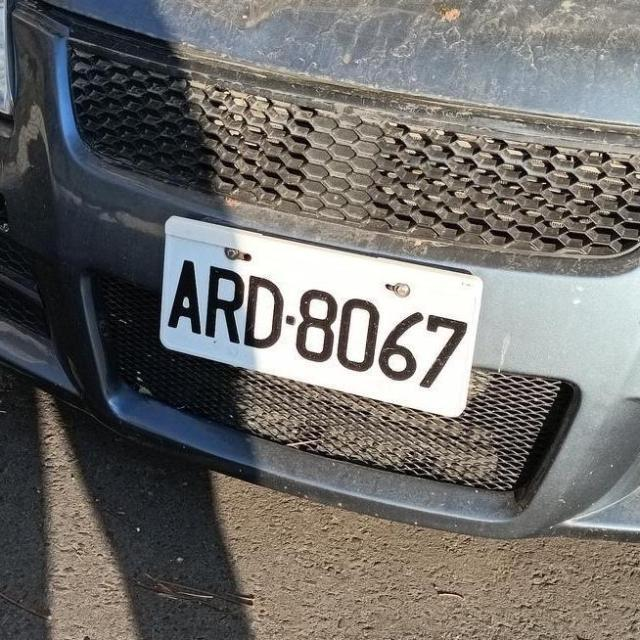W: (160, 215, 488, 418)
